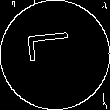L_E: (28, 37, 82, 73)
